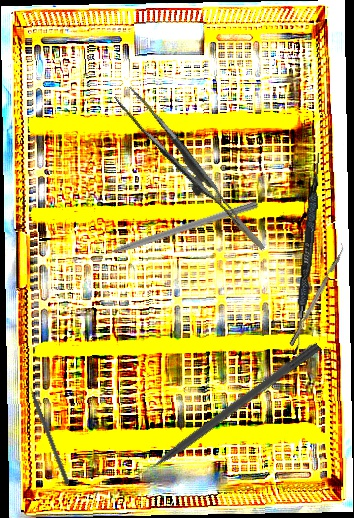Chopper: (283, 241, 349, 347)
Pusher: (125, 339, 322, 488), (83, 198, 260, 264), (24, 375, 71, 485)
Spatula Surgical: (292, 152, 323, 356)
Tissue Forceps: (114, 74, 265, 271)
